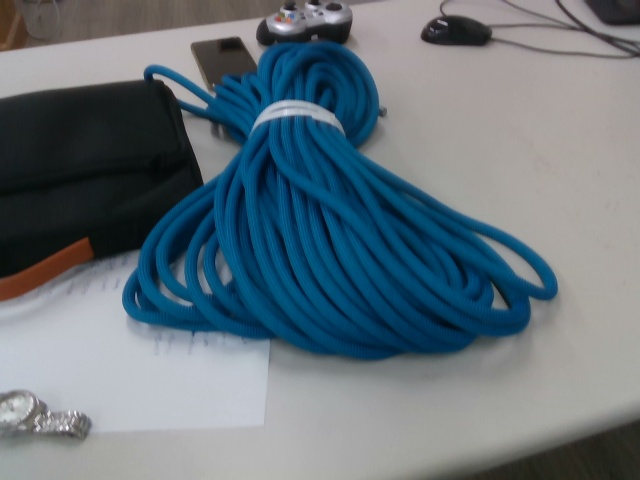rope: (119, 36, 565, 366)
